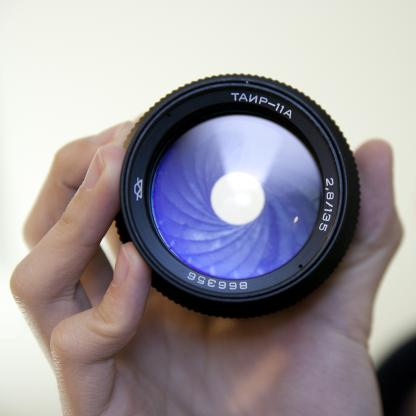Camera: (115, 74, 362, 322)
